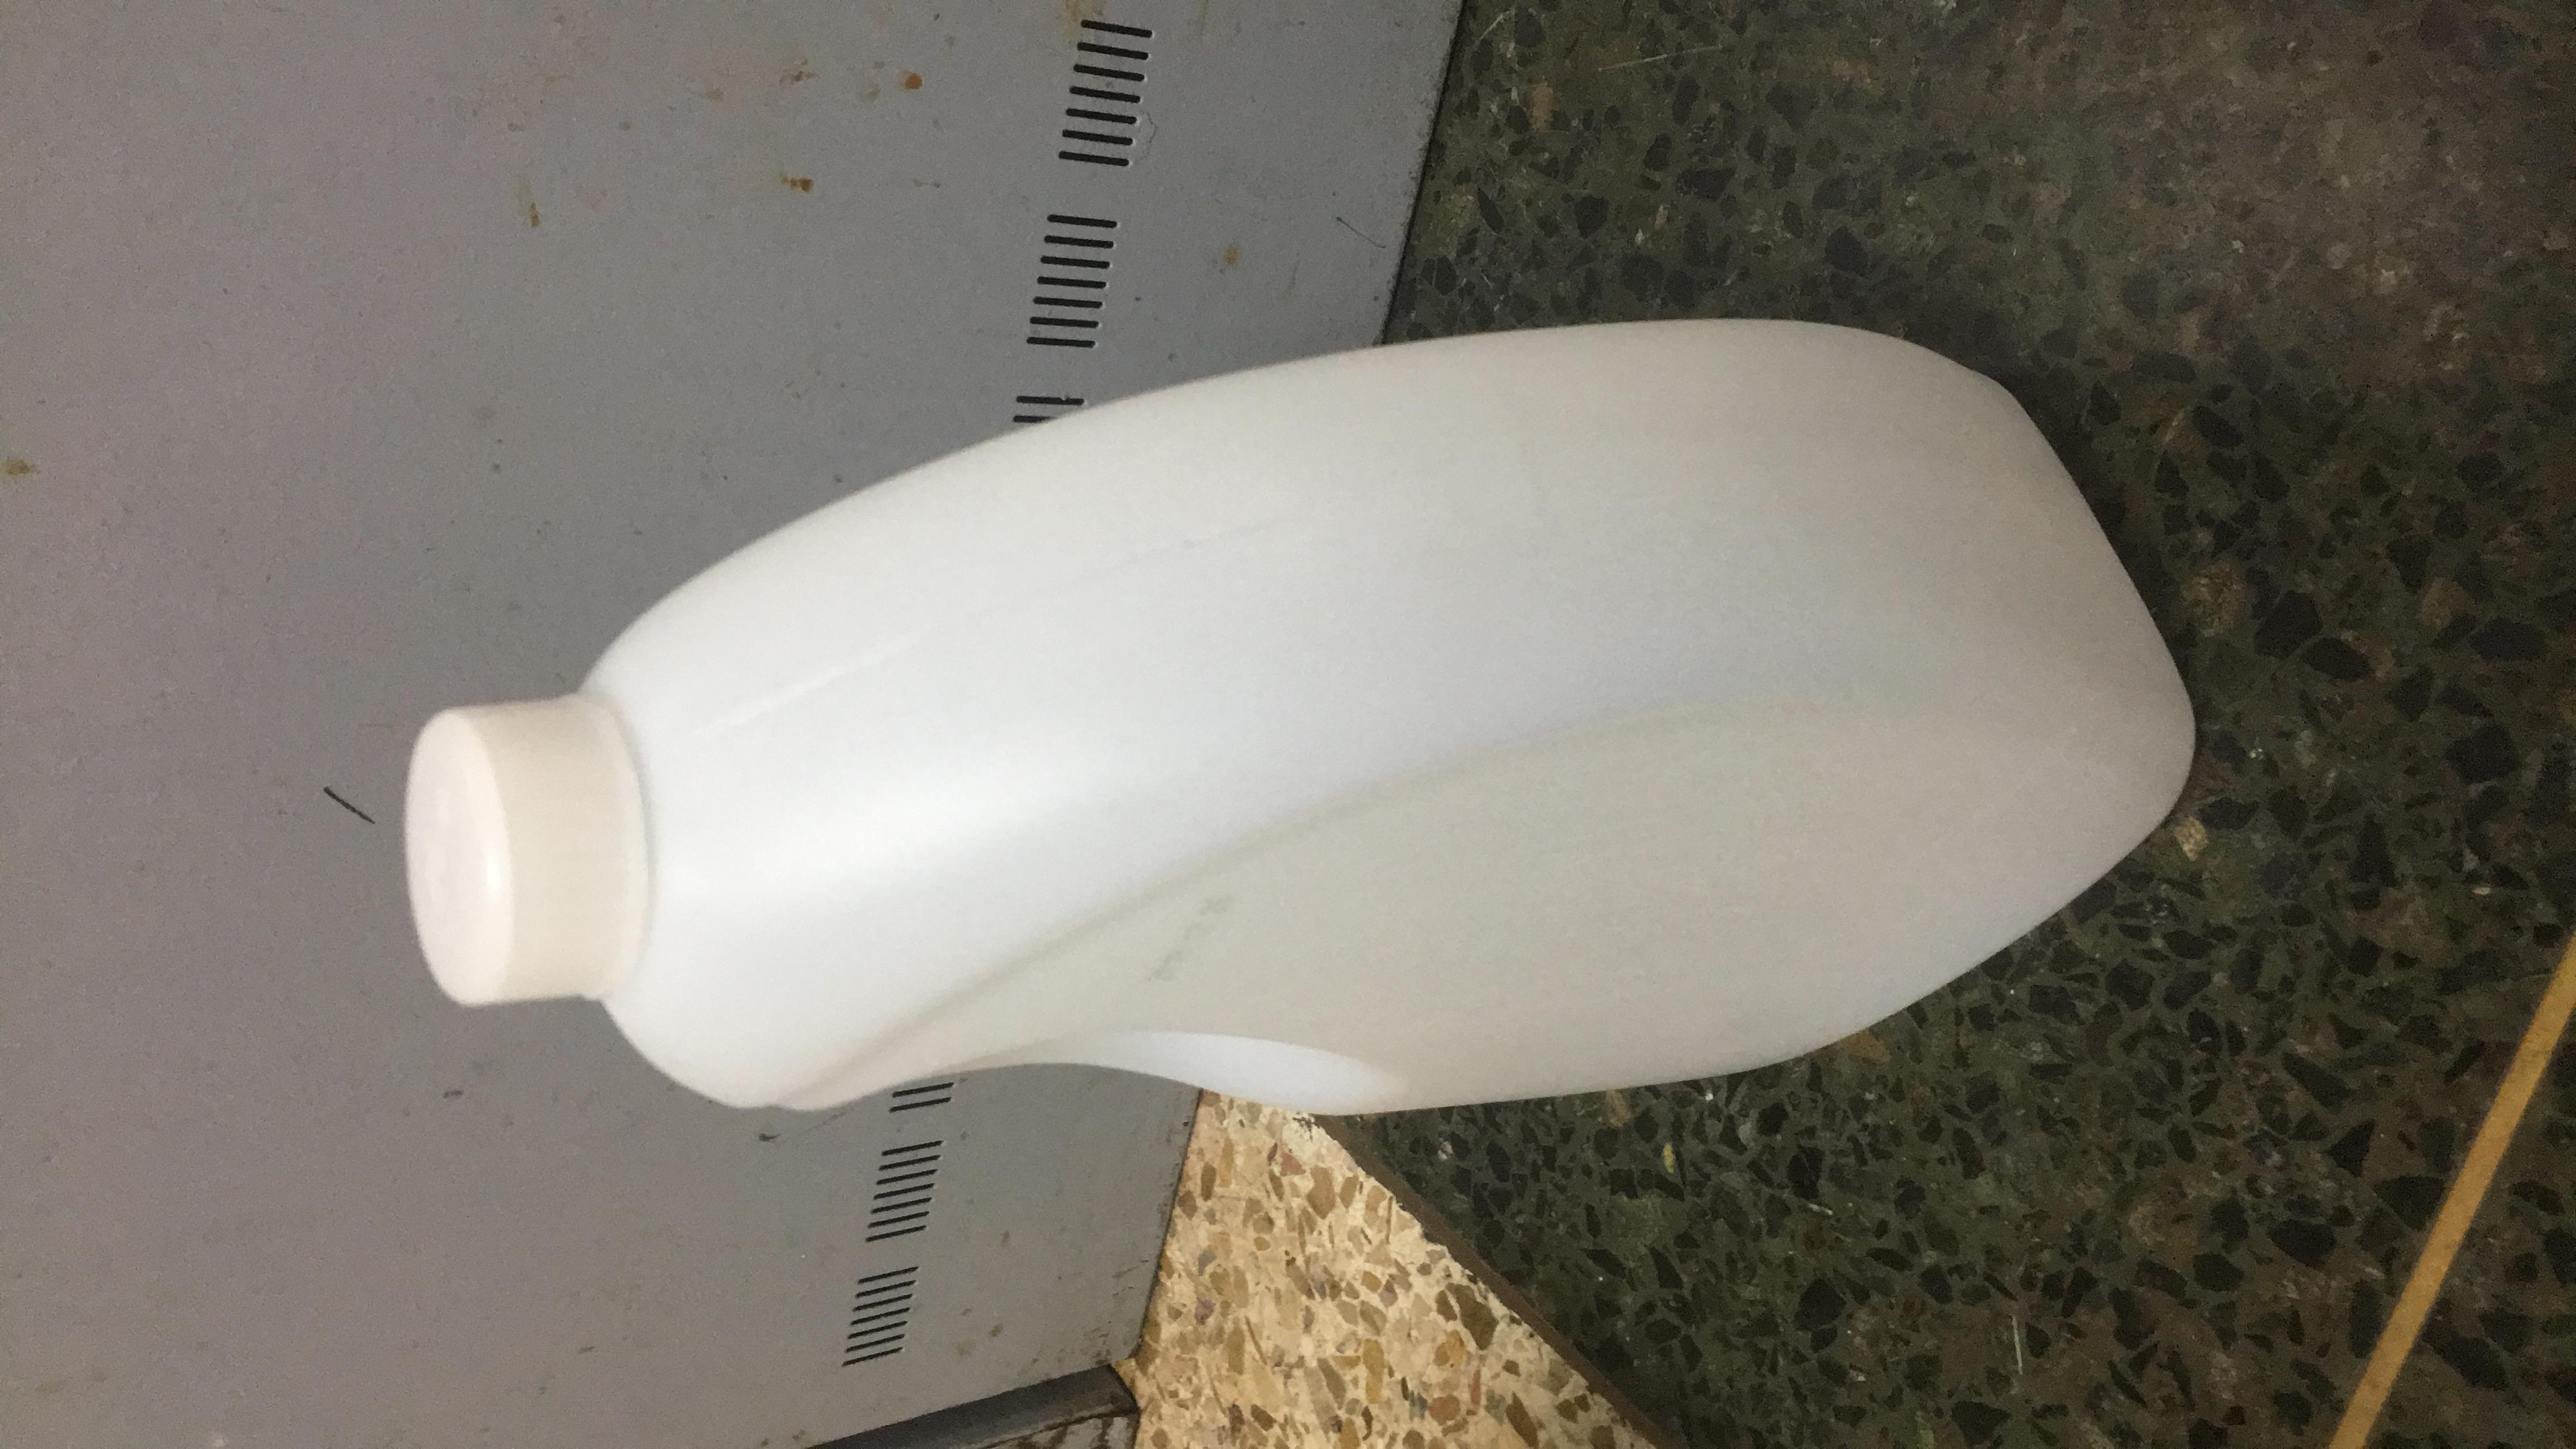bottle: (506, 219, 2121, 1263)
